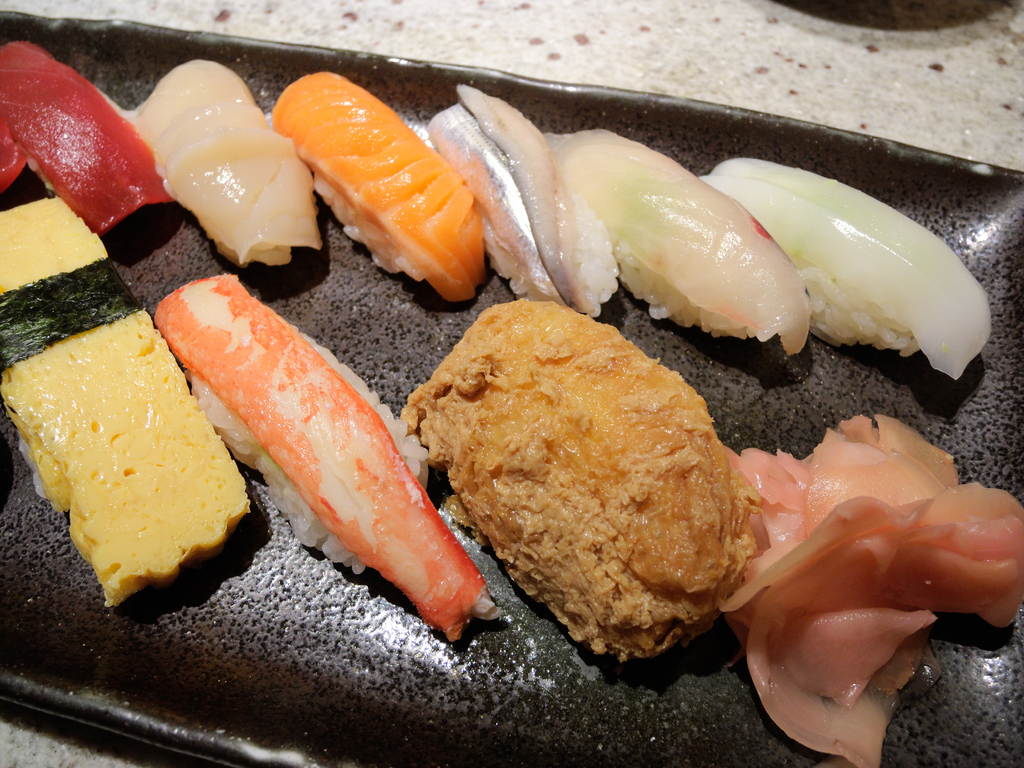sushi: (1, 35, 991, 381), (159, 276, 508, 646)
